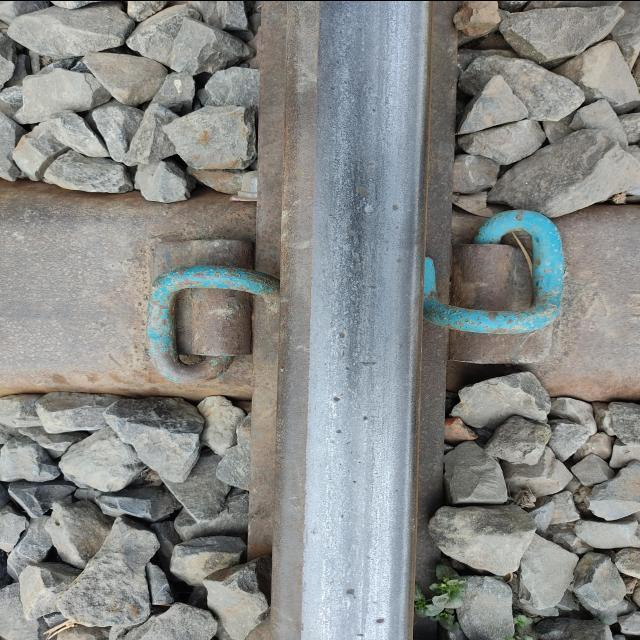head_checks_low: (345, 586, 385, 637), (336, 330, 376, 371), (332, 395, 370, 434)
